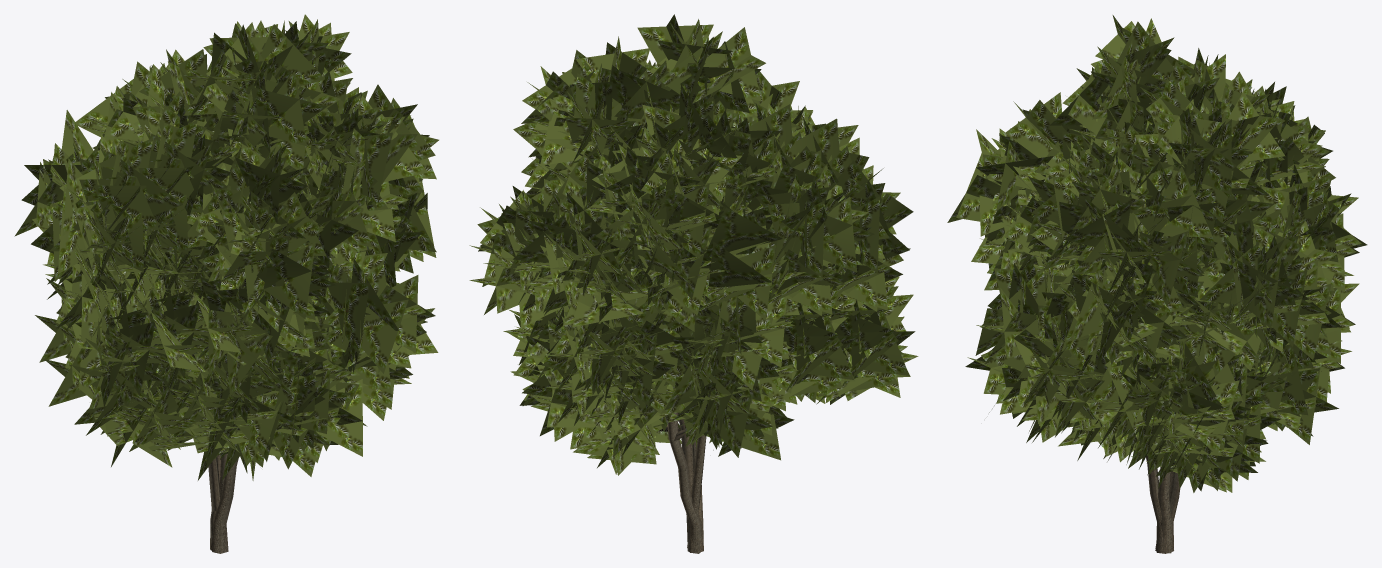
Rendered from Umbellularia_Californica_Autumn_Adult.glb.
3 renders of one model, left to right at view 1: azimuth 30°, elevation 25°; view 2: azimuth 150°, elevation 25°; view 3: azimuth 270°, elevation 25°, orthographic. The views are drawn at different scales.
Visible parts, largest first — view 1: Umbellularia_Californica_Autumn_Adult__LOD3; view 2: Umbellularia_Californica_Autumn_Adult__LOD3; view 3: Umbellularia_Californica_Autumn_Adult__LOD3.
Boxes of the visible parts, bbox=[...] form: Umbellularia_Californica_Autumn_Adult__LOD3: bbox=[14, 14, 438, 553]; Umbellularia_Californica_Autumn_Adult__LOD3: bbox=[469, 14, 918, 553]; Umbellularia_Californica_Autumn_Adult__LOD3: bbox=[947, 15, 1367, 553].
Bounding box in the file's own units: 22.26 × 28.77 × 20.52.
2 materials, 2 textured.
